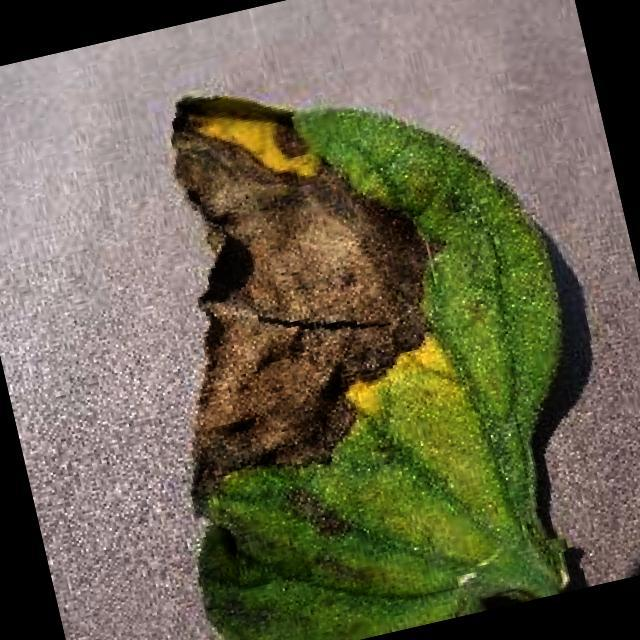Tomato late blight leaf: (87, 23, 625, 640)
